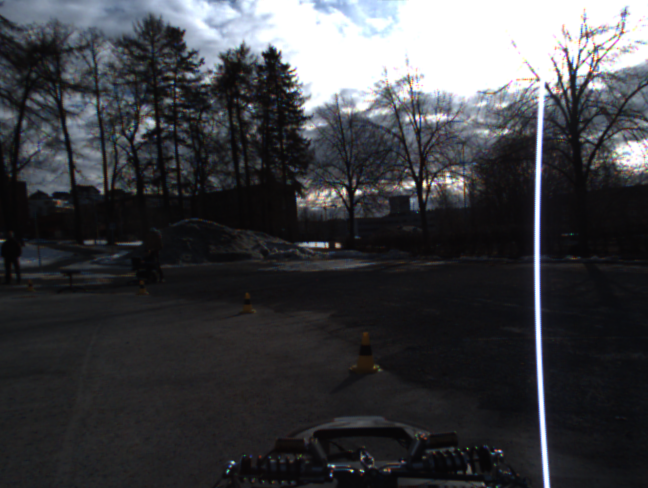cone-small-yellow: (349, 332, 384, 375), (239, 292, 257, 313), (136, 280, 149, 296), (25, 278, 36, 292)
